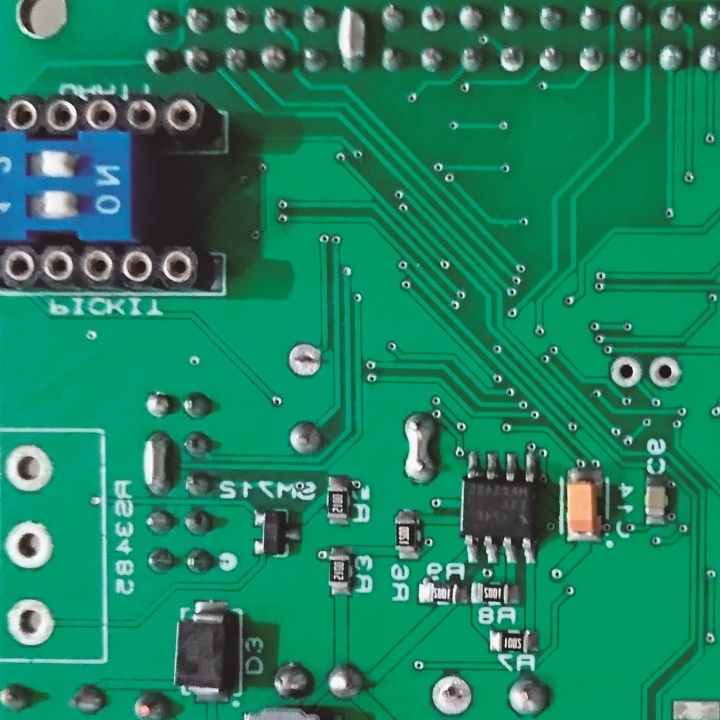F: (1, 440, 59, 497), (3, 518, 56, 575), (5, 598, 58, 649), (427, 672, 476, 716), (648, 352, 685, 392), (287, 341, 324, 380), (608, 353, 644, 389), (497, 41, 529, 80), (576, 41, 606, 77), (221, 5, 253, 38), (416, 3, 447, 37)
P: (401, 408, 439, 490), (333, 3, 369, 75), (141, 426, 175, 500)
